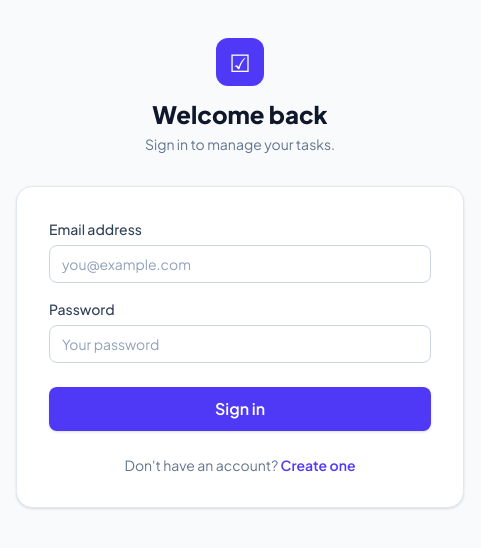
LoginPage › shows client-side required-field errors on an empty submit
The image size is (481, 548).
Step 1. Click the button "Sign in" → [240, 409], box [49, 387, 431, 431]
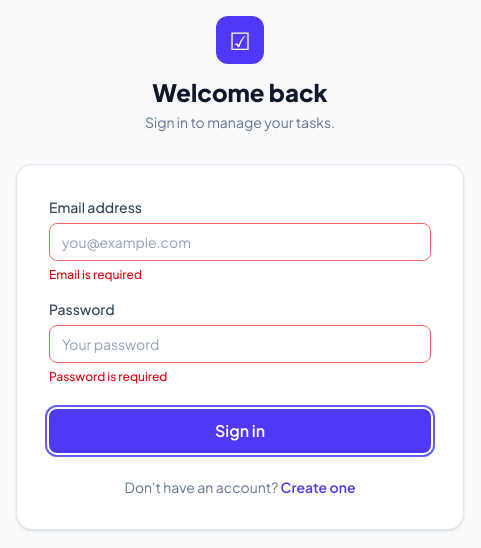
Check: the text "Email is required" is shown, box [49, 267, 142, 282]
Check: the text "Password is required" is shown, box [49, 369, 167, 384]
